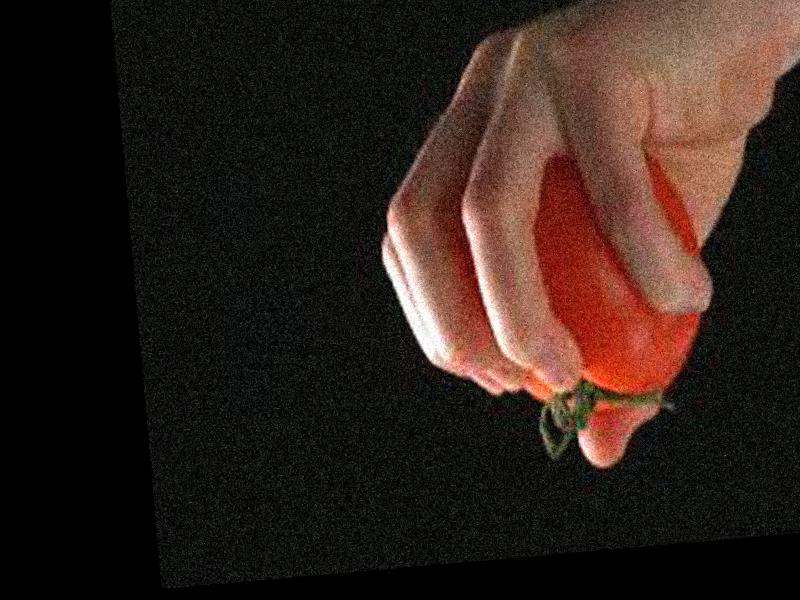Tomato: (500, 136, 711, 406)
